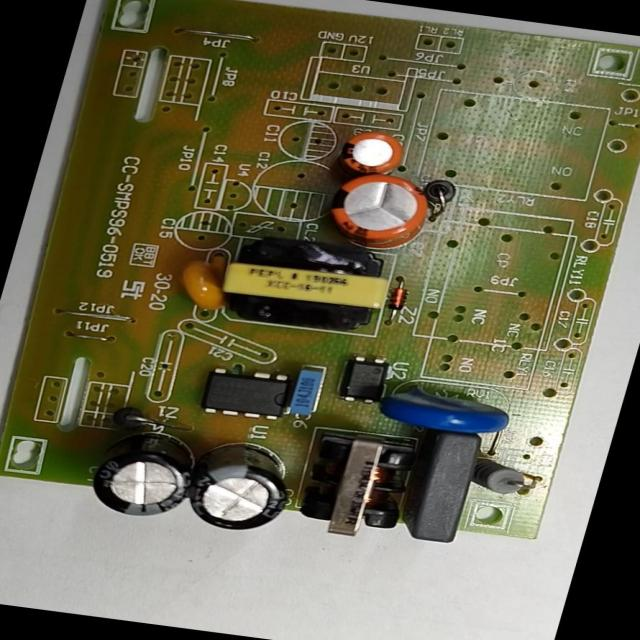Cap1: (310, 166, 448, 256)
Cap2: (326, 120, 420, 184)
Cap3: (174, 434, 303, 536)
Cap4: (74, 418, 211, 523)
MOSFET: (187, 358, 303, 430)
Mov: (363, 376, 529, 442)
Resistor: (466, 460, 538, 504)
Transformer: (206, 225, 406, 340), (286, 429, 432, 547)
